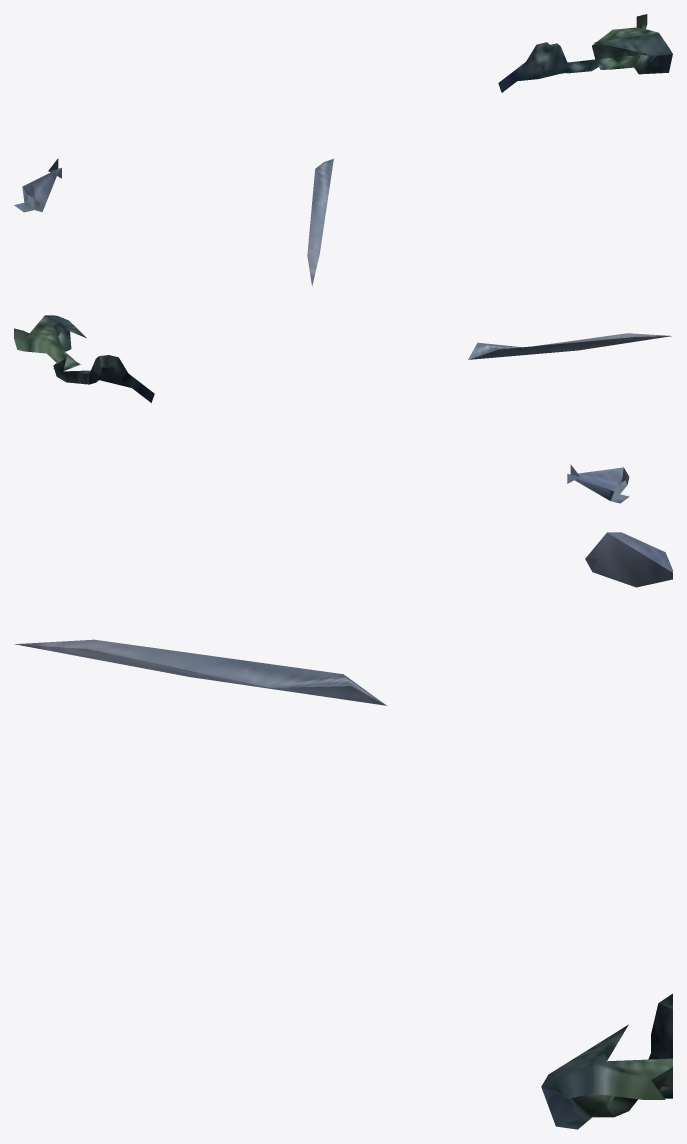
The picture shows the model from 3 angles, top to bottom: view 1: azimuth 30°, elevation 25°; view 2: azimuth 150°, elevation 25°; view 3: azimuth 270°, elevation 25°; orthographic projection. The views are drawn at different scales.
Parts seen in each view (by area): view 1: 30436272704361614714_0; view 2: 30436272704361614714_0; view 3: 30436272704361614714_0.
Boxes of the visible parts, x1,y1,x2,y2 form: 30436272704361614714_0: [14, 14, 672, 286]; 30436272704361614714_0: [14, 315, 671, 503]; 30436272704361614714_0: [14, 532, 672, 1129].
Size of the model in its own units: 28.23 by 2.62 by 13.88.
Materials: 1 (1 with a texture image).
